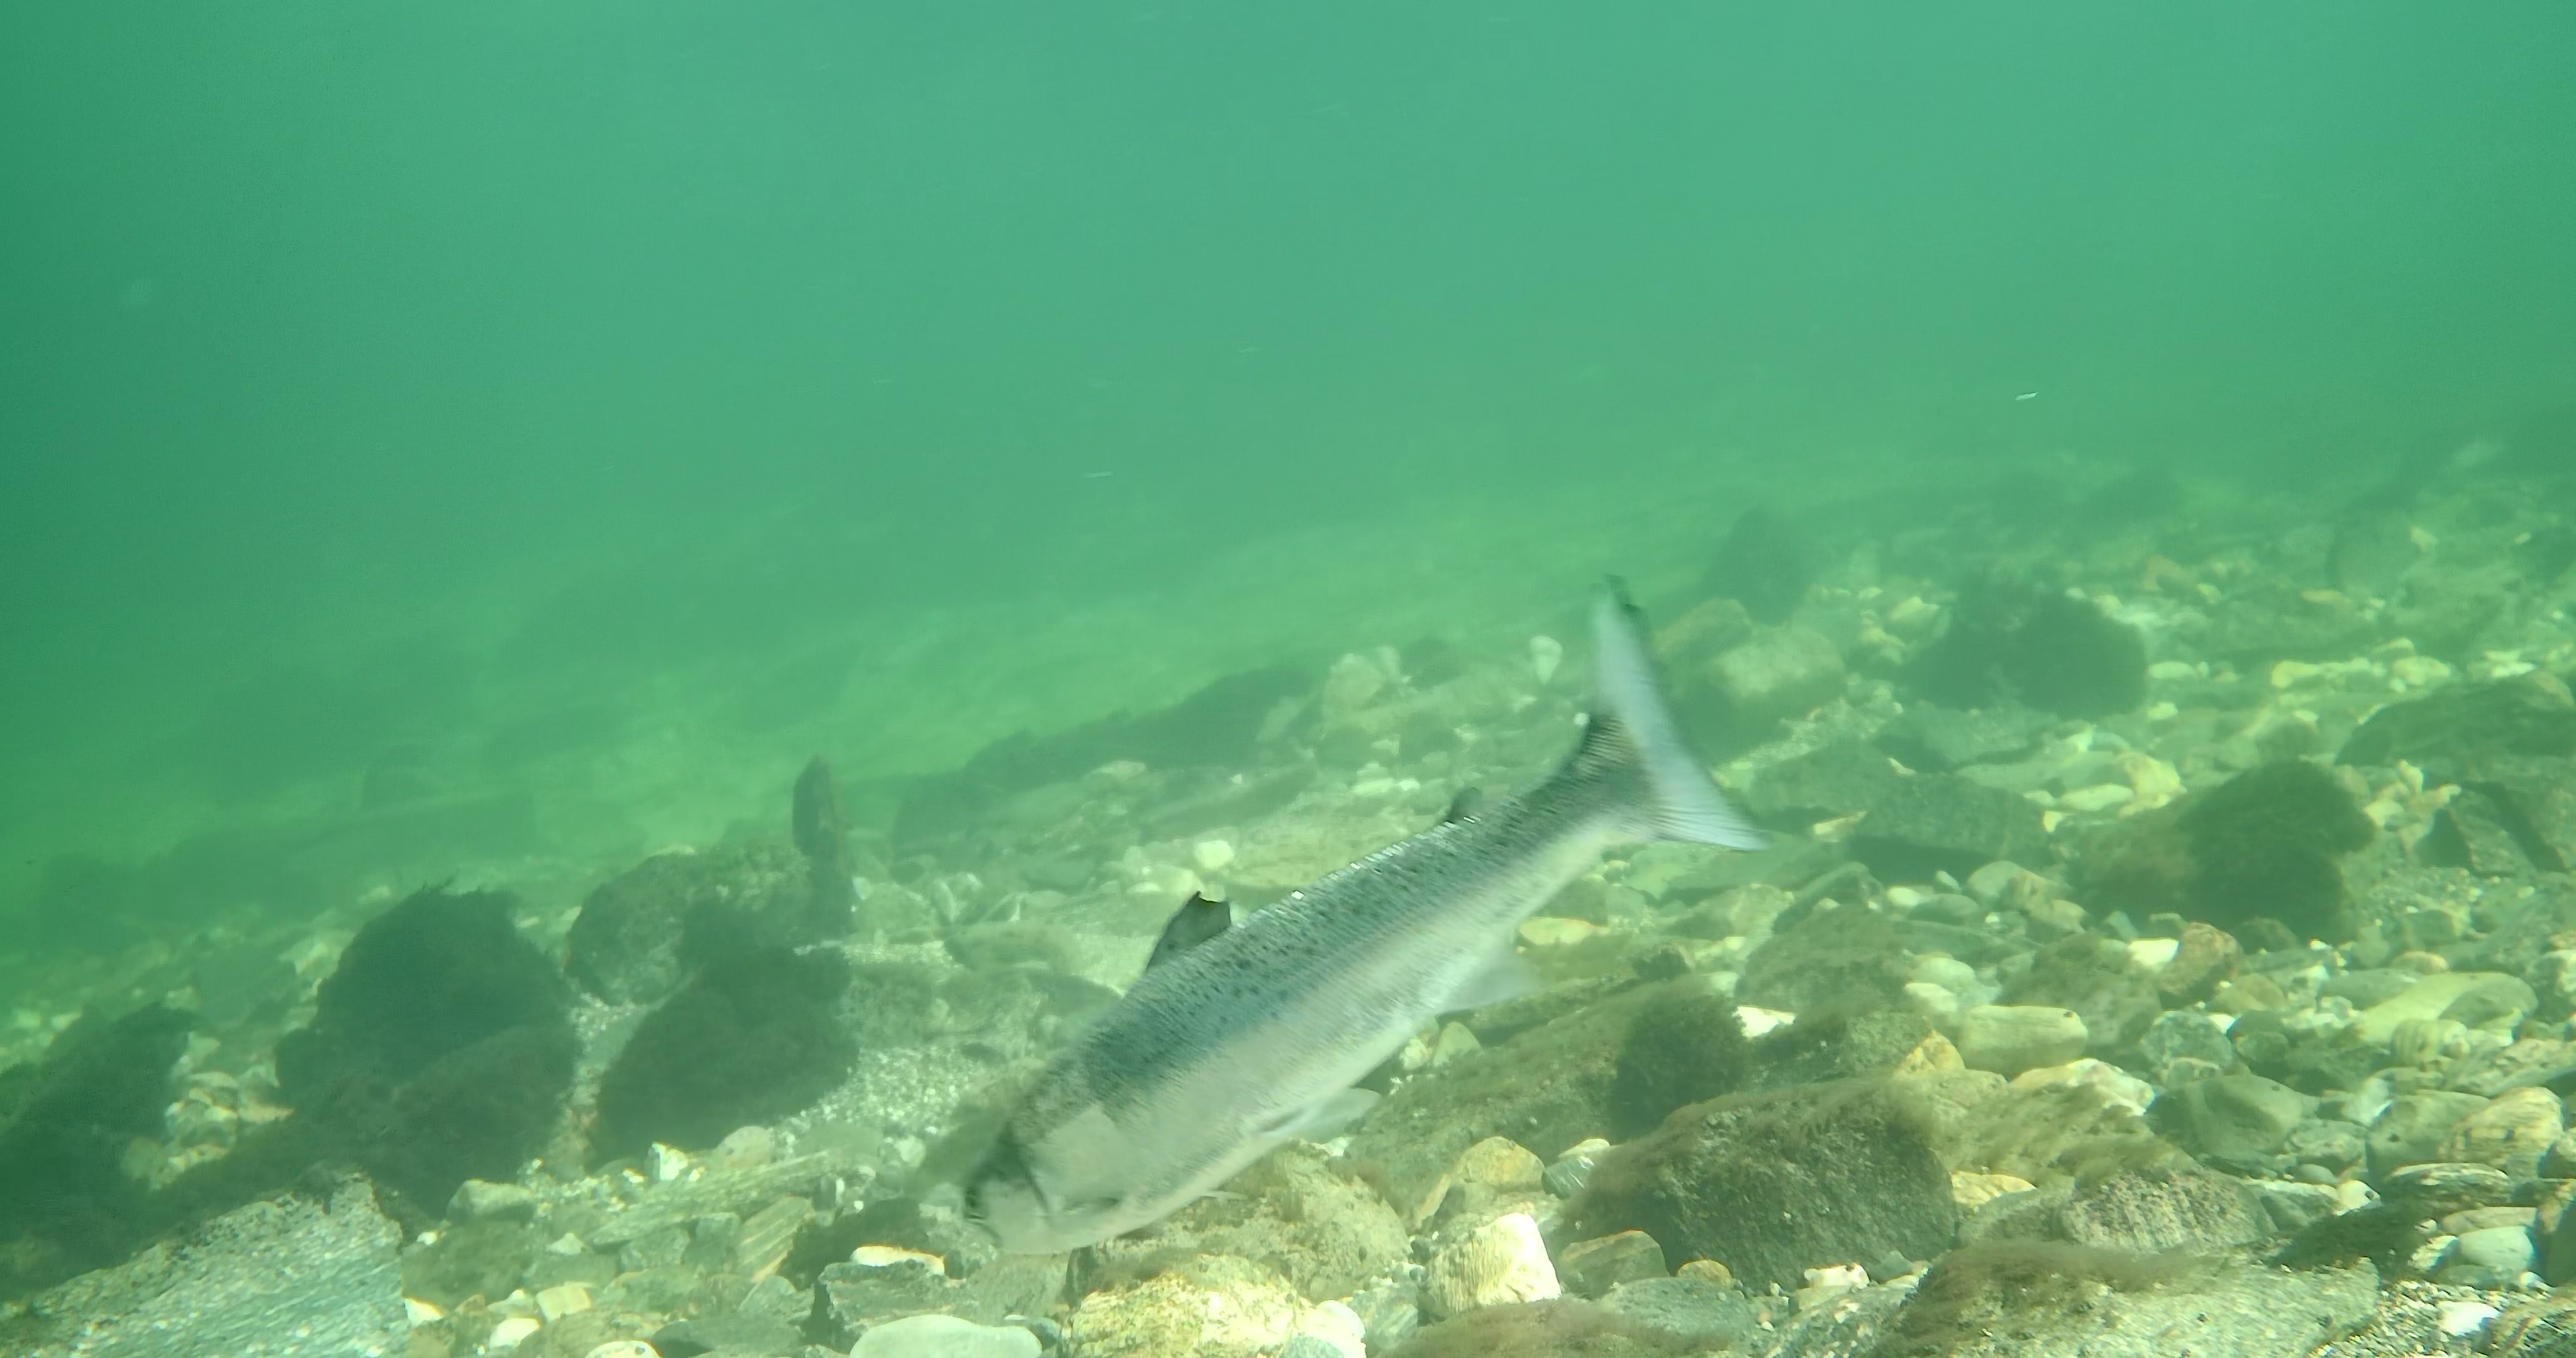salmon: (956, 571, 1775, 1259)
